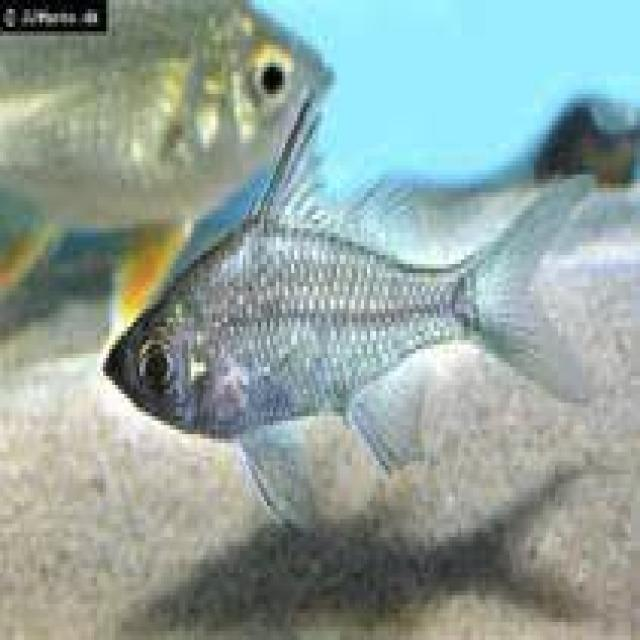Glass-Perchlet: (69, 131, 638, 540)
